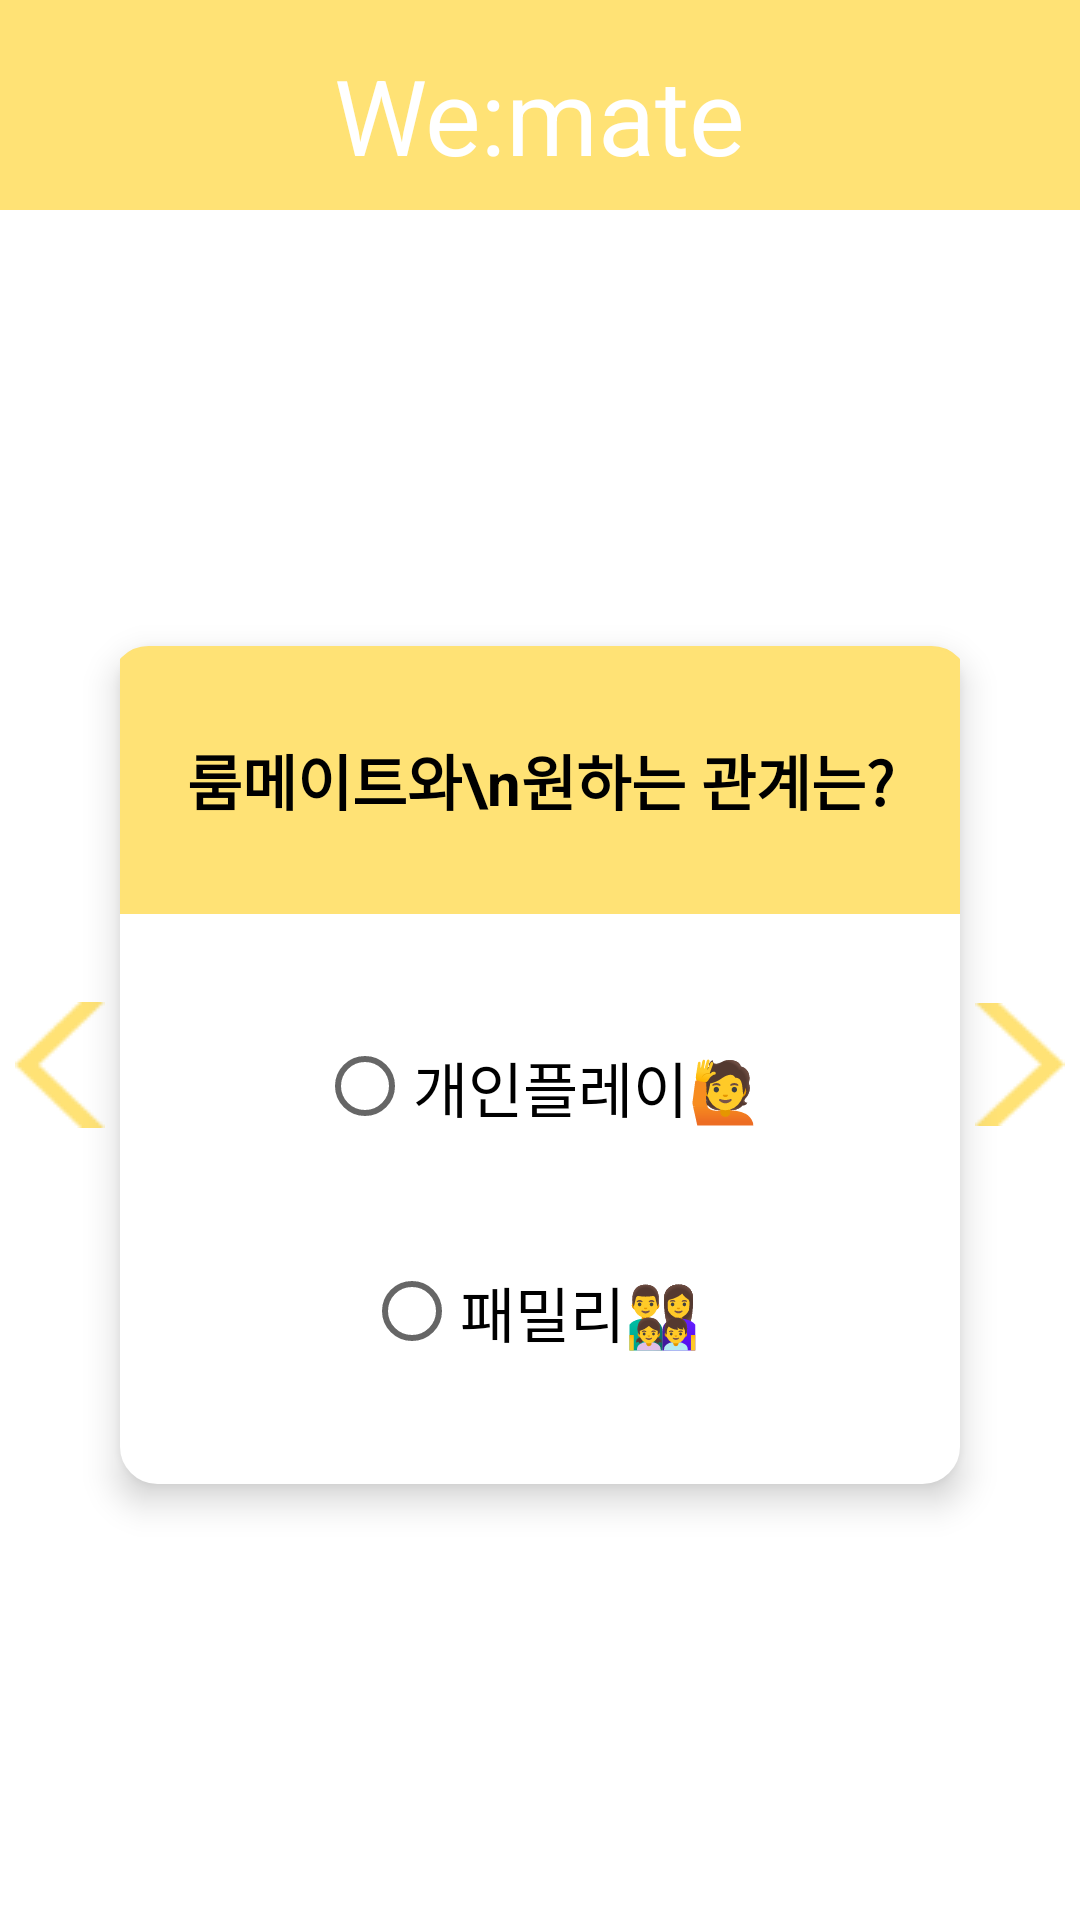

Point at icon controls on the screen. Image size 1080×1920, points as (x,y).
left: (60,1065)
right: (1020,1064)
